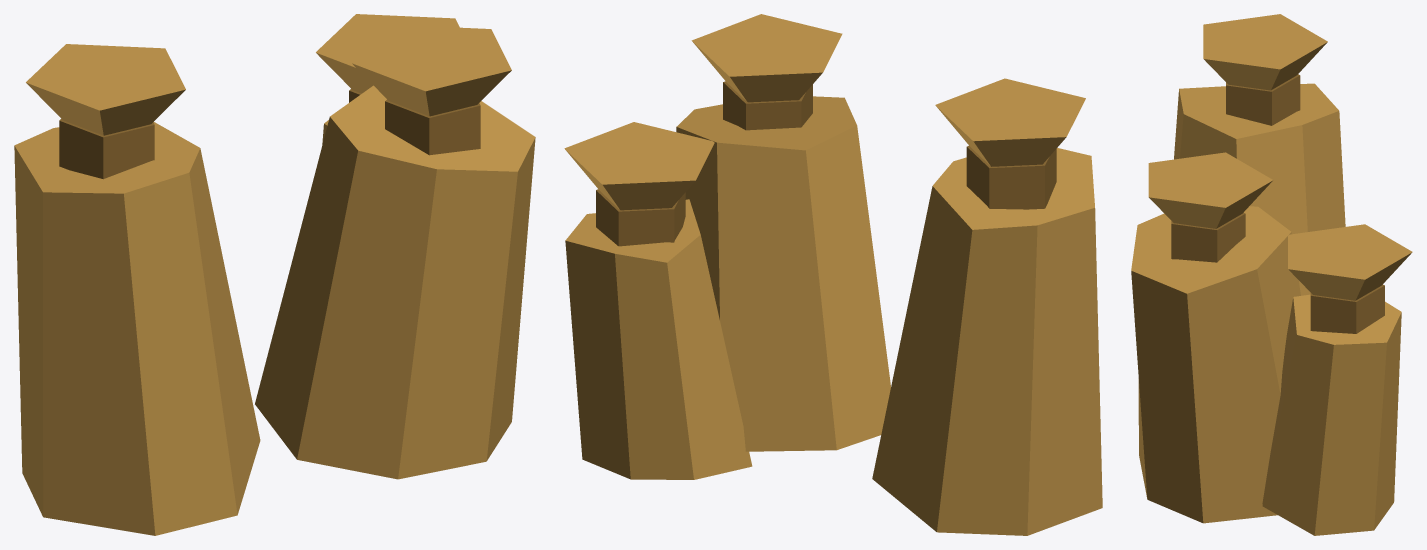
File: good_grain.glb
The picture shows the model from 3 angles, left to right: view 1: azimuth 30°, elevation 25°; view 2: azimuth 150°, elevation 25°; view 3: azimuth 270°, elevation 25°; orthographic projection. The views are drawn at different scales.
Parts seen in each view (by area): view 1: good_grain; view 2: good_grain; view 3: good_grain.
Part boxes in pixels (x1,y1,x2,y2): good_grain: (14,14,535,535); good_grain: (564,14,1102,535); good_grain: (1131,14,1412,535).
Bounding box in the file's own units: 0.5626 × 0.45 × 0.3427.
